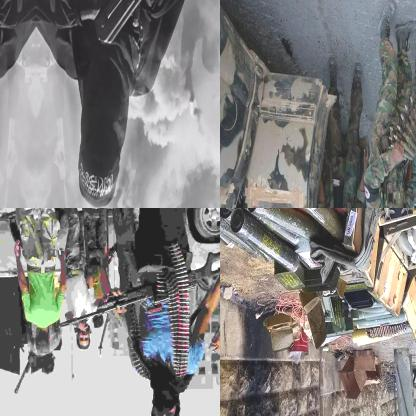rifle: (51, 242, 219, 332)
